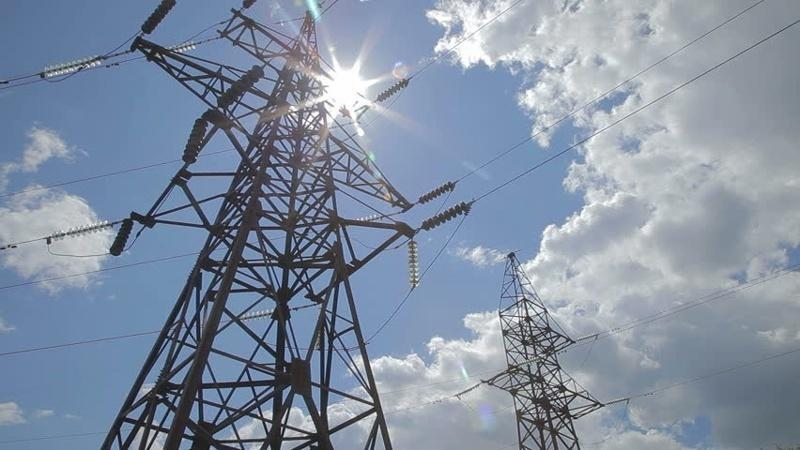power_tower: (39, 1, 472, 450), (454, 248, 632, 450)
